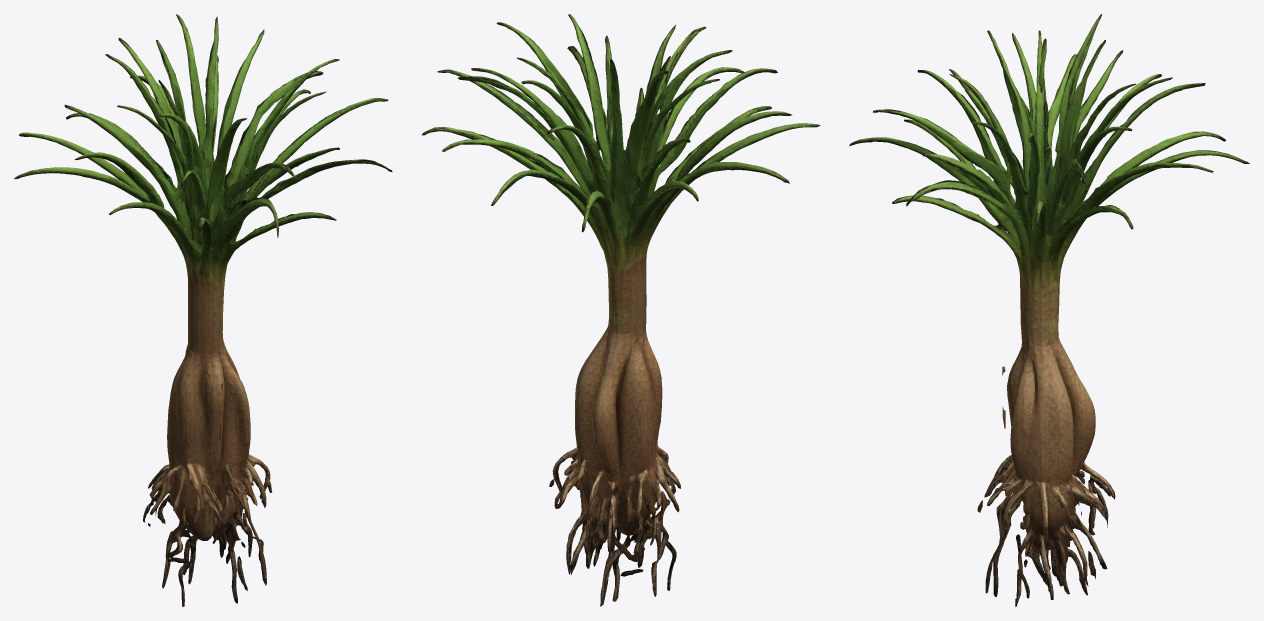
The picture shows the model from 3 angles, left to right: view 1: azimuth 30°, elevation 25°; view 2: azimuth 150°, elevation 25°; view 3: azimuth 270°, elevation 25°; orthographic projection. The views are drawn at different scales.
Parts seen in each view (by area): view 1: geometry_0; view 2: geometry_0; view 3: geometry_0.
Boxes of the visible parts, bbox=[...] form: geometry_0: bbox=[14, 14, 392, 606]; geometry_0: bbox=[422, 14, 820, 606]; geometry_0: bbox=[849, 14, 1249, 606].
Size of the model in its own units: 0.6944 by 0.9967 by 0.6624.
4 materials, 4 textured.
